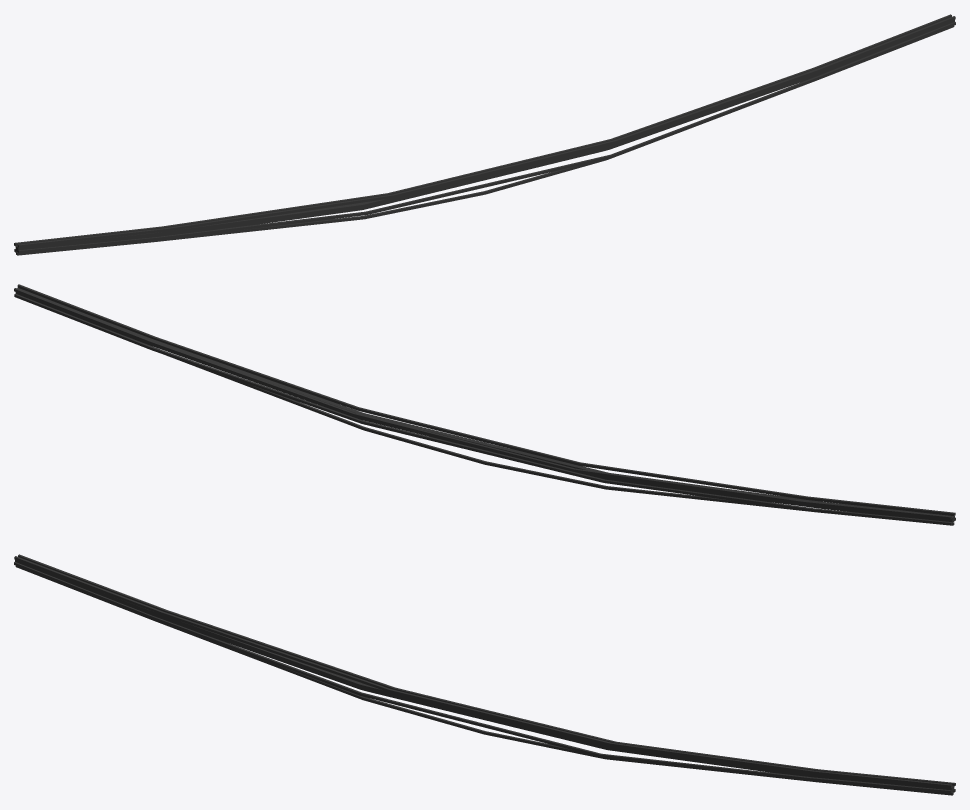
File: SM_BuildingsDecor_14.fbx
3 views of the same model, one above another, from view 1: azimuth 30°, elevation 25°; view 2: azimuth 150°, elevation 25°; view 3: azimuth 330°, elevation 25° (orthographic).
Parts seen in each view (by area): view 1: SM_BuildingsDecor_14; view 2: SM_BuildingsDecor_14; view 3: SM_BuildingsDecor_14.
Part boxes in pixels (left/top/right/bottom): SM_BuildingsDecor_14: left=14, top=14, right=955, bottom=255; SM_BuildingsDecor_14: left=14, top=284, right=955, bottom=525; SM_BuildingsDecor_14: left=14, top=554, right=955, bottom=795.
Size of the model in its own units: 10 by 0.6556 by 0.182.
